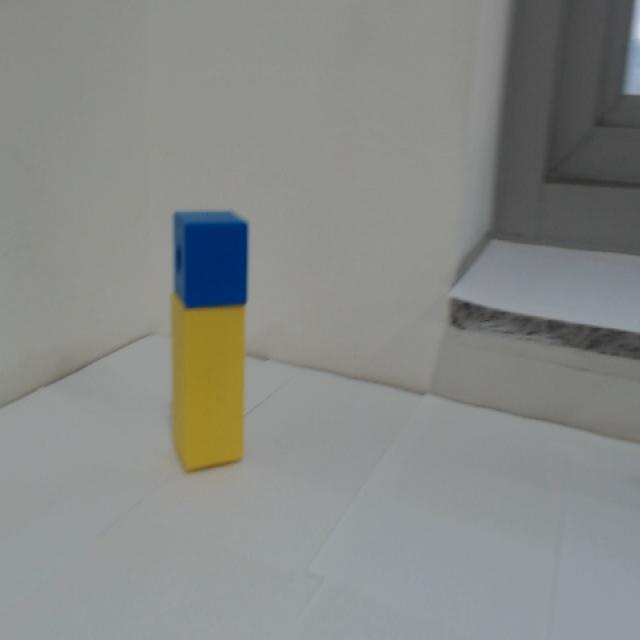cube: (165, 204, 253, 310)
